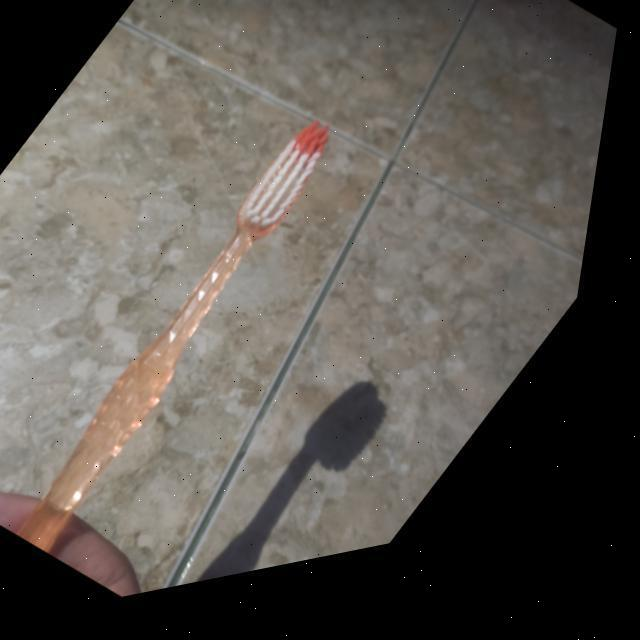toothbrush: (0, 84, 414, 592)
